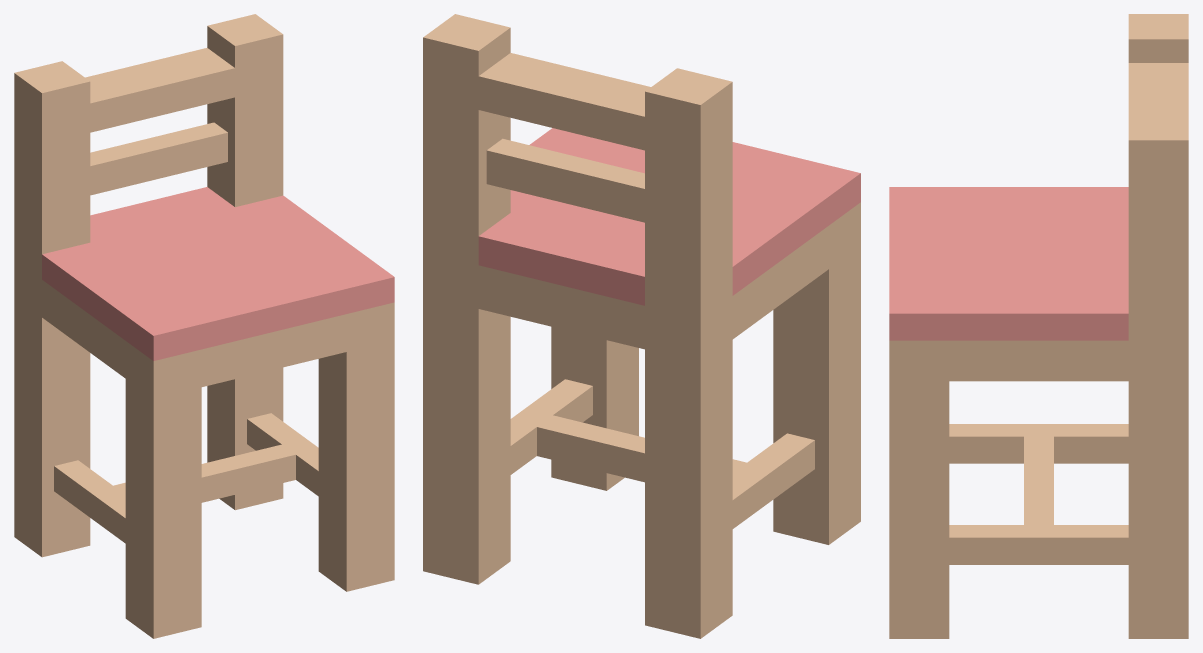
Rendered from chairCushion_low_back.glb.
The picture shows the model from 3 angles, left to right: view 1: azimuth 30°, elevation 25°; view 2: azimuth 150°, elevation 25°; view 3: azimuth 270°, elevation 25°; orthographic projection. The views are drawn at different scales.
Parts seen in each view (by area): view 1: chairCushion(Clone); view 2: chairCushion(Clone); view 3: chairCushion(Clone).
Part boxes in pixels (x1,y1,x2,y2): chairCushion(Clone): (14,14,394,638); chairCushion(Clone): (423,14,860,638); chairCushion(Clone): (889,14,1188,638).
Size of the model in its own units: 0.2 by 0.3676 by 0.2.
